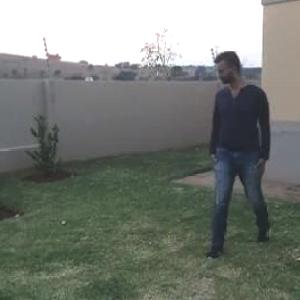follow: (192, 38, 270, 272)
